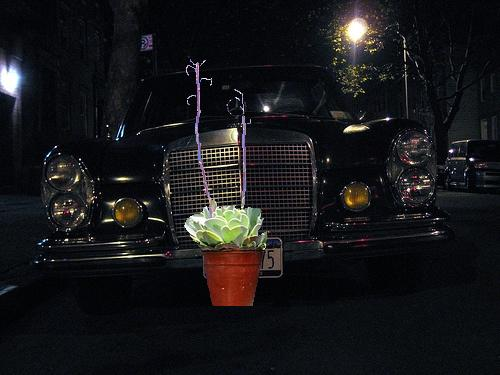tampered: (185, 60, 267, 306)
